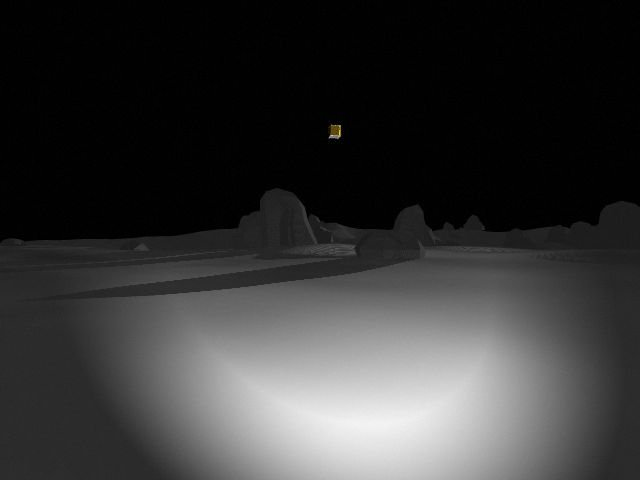cubesat: (326, 120, 347, 143)
